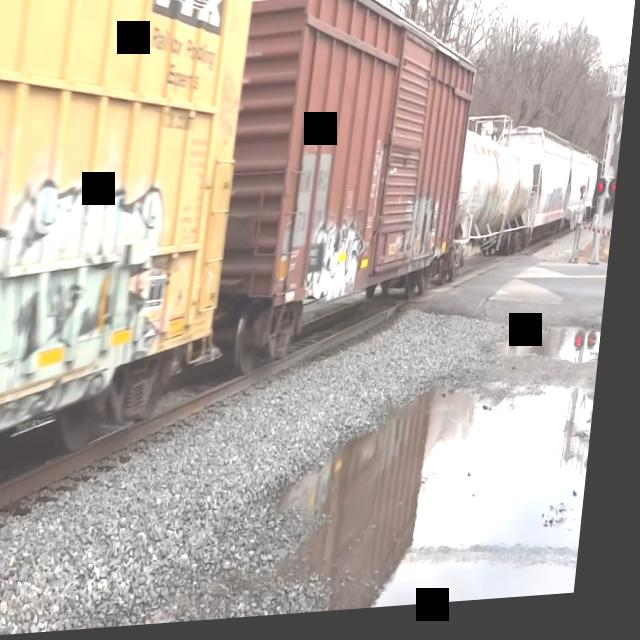boxcar: (0, 0, 259, 558), (218, 0, 484, 368)
tank: (459, 124, 546, 286)
